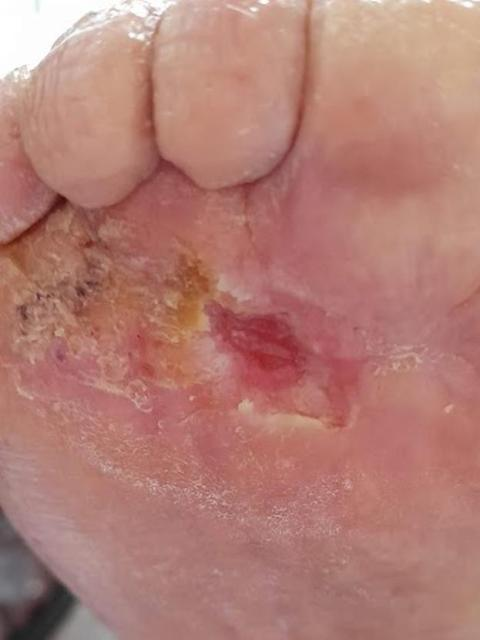wound: (12, 213, 380, 427)
